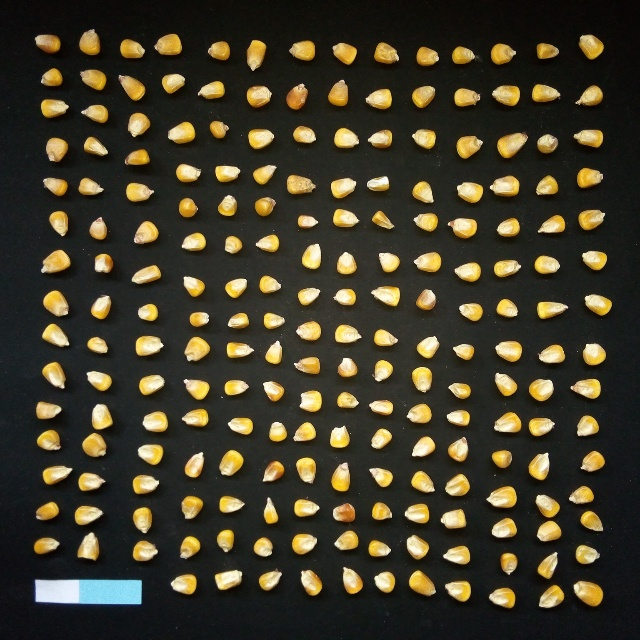escala: (34, 579, 142, 604)
maiz: (571, 577, 606, 609), (566, 375, 605, 402), (406, 567, 438, 599), (496, 130, 530, 160), (40, 247, 74, 276), (484, 483, 520, 510), (537, 581, 568, 612), (529, 489, 562, 518), (492, 337, 526, 365), (40, 288, 72, 317), (370, 39, 403, 67), (525, 450, 553, 483), (581, 290, 615, 317), (243, 38, 269, 73), (577, 32, 606, 63), (526, 375, 557, 404), (534, 549, 563, 580), (133, 217, 161, 249), (490, 409, 523, 436), (117, 73, 147, 102), (403, 531, 432, 561), (442, 471, 473, 499), (445, 216, 481, 240), (489, 172, 522, 198), (526, 414, 559, 440), (486, 585, 519, 611), (534, 298, 571, 321), (445, 434, 474, 463), (76, 531, 103, 562), (297, 568, 324, 599), (577, 448, 608, 475), (40, 322, 72, 348), (400, 500, 432, 526), (40, 463, 76, 486), (184, 335, 212, 364), (414, 332, 442, 361), (579, 340, 608, 368), (491, 370, 519, 399), (41, 360, 68, 390), (218, 448, 245, 478), (408, 364, 435, 394), (408, 433, 438, 460), (293, 454, 319, 485), (491, 83, 522, 109), (369, 285, 404, 308), (440, 543, 475, 566), (437, 506, 469, 531), (489, 515, 521, 540), (130, 262, 163, 286), (411, 250, 444, 274), (442, 579, 475, 603), (43, 136, 71, 164), (456, 133, 484, 161), (408, 468, 436, 496), (578, 207, 607, 234), (72, 504, 106, 527), (329, 174, 359, 200), (79, 432, 109, 458), (575, 82, 605, 108), (575, 165, 605, 191), (325, 77, 350, 108), (246, 126, 277, 151), (180, 377, 211, 402), (537, 341, 568, 366), (364, 464, 395, 489), (534, 519, 565, 544), (530, 79, 562, 103), (572, 542, 604, 566), (330, 460, 353, 493), (490, 41, 518, 68), (410, 83, 438, 110), (367, 425, 395, 452), (290, 530, 319, 556), (153, 32, 183, 57), (134, 441, 164, 466), (181, 450, 206, 480), (214, 568, 244, 593), (339, 564, 364, 594), (572, 413, 602, 438), (571, 128, 605, 150), (244, 84, 275, 108), (77, 469, 108, 493), (579, 248, 610, 272), (332, 322, 364, 345), (134, 334, 166, 357), (331, 41, 358, 68), (180, 272, 207, 299), (371, 569, 398, 596), (89, 402, 115, 430), (405, 400, 433, 426), (167, 120, 196, 145), (364, 85, 393, 110), (285, 82, 309, 112), (172, 160, 203, 183), (285, 173, 316, 196), (452, 86, 483, 109), (536, 213, 567, 236), (39, 97, 71, 119), (180, 407, 212, 429), (223, 415, 255, 437), (177, 534, 203, 561), (454, 259, 481, 285), (578, 508, 605, 534), (334, 249, 359, 277), (294, 318, 322, 343), (332, 528, 360, 553), (117, 36, 146, 60), (34, 428, 63, 452), (169, 572, 198, 596), (494, 215, 523, 239), (491, 258, 524, 279), (212, 161, 242, 184), (131, 473, 161, 496), (218, 492, 248, 515), (33, 32, 64, 54), (301, 240, 323, 271), (33, 399, 64, 421), (410, 179, 436, 205), (127, 111, 152, 138), (411, 127, 438, 152), (46, 209, 70, 237), (224, 339, 256, 360), (450, 43, 478, 67), (442, 407, 474, 428), (79, 68, 108, 91), (331, 126, 360, 149), (126, 181, 155, 204), (137, 372, 166, 395), (80, 103, 110, 125), (331, 207, 361, 229), (83, 370, 113, 392), (291, 355, 322, 376), (179, 494, 204, 520), (258, 567, 283, 593), (415, 44, 441, 69), (534, 173, 560, 198), (377, 248, 402, 274), (296, 389, 323, 413), (261, 458, 285, 485), (130, 506, 154, 533), (132, 539, 159, 563), (78, 28, 101, 56), (455, 181, 483, 204), (295, 285, 324, 307), (533, 253, 562, 275), (366, 396, 395, 418), (287, 40, 317, 61), (196, 79, 226, 100), (215, 193, 239, 219), (328, 424, 352, 450), (367, 127, 393, 151), (370, 209, 396, 233), (490, 447, 516, 471), (497, 551, 521, 577), (222, 275, 249, 298), (90, 293, 113, 320), (81, 135, 109, 157), (179, 230, 207, 252), (456, 301, 484, 323), (493, 297, 521, 319), (261, 496, 282, 525), (291, 497, 320, 518), (372, 327, 401, 348), (365, 537, 394, 558), (40, 177, 70, 197), (253, 194, 278, 218), (250, 534, 275, 558), (38, 66, 64, 89), (251, 162, 277, 185), (134, 301, 160, 324), (142, 409, 168, 432), (330, 501, 356, 524), (372, 358, 395, 384), (205, 39, 232, 61), (160, 72, 187, 94), (254, 232, 281, 254), (215, 526, 236, 554), (568, 484, 596, 505), (122, 147, 151, 167), (261, 379, 285, 403), (536, 132, 560, 156), (332, 285, 357, 308), (335, 388, 360, 411), (256, 272, 282, 294), (369, 500, 395, 522), (32, 535, 62, 554), (290, 124, 317, 145), (450, 341, 477, 362), (445, 380, 472, 401), (222, 377, 250, 397), (336, 356, 359, 380), (293, 420, 317, 443), (415, 288, 438, 312), (260, 310, 286, 331), (34, 500, 60, 521), (536, 41, 562, 62), (413, 211, 439, 232), (77, 176, 104, 196), (177, 196, 200, 219), (92, 251, 114, 275), (186, 309, 211, 330), (264, 339, 284, 365), (268, 420, 288, 445), (225, 311, 251, 330), (208, 119, 231, 140), (221, 234, 244, 255), (85, 334, 108, 354), (89, 216, 107, 241), (295, 213, 321, 230), (366, 175, 390, 193)
